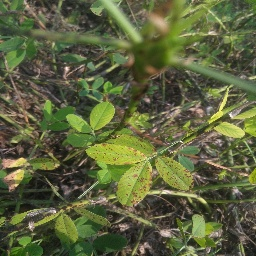GroundNut_Leaf: (85, 131, 156, 163), (116, 162, 153, 211), (158, 156, 196, 192), (1, 37, 25, 73), (82, 205, 109, 235), (54, 216, 79, 247), (193, 215, 218, 246), (209, 119, 247, 139), (42, 101, 65, 131), (92, 234, 128, 253), (90, 102, 115, 129), (10, 235, 45, 254), (89, 1, 121, 19), (1, 171, 24, 194), (30, 157, 60, 174), (67, 114, 87, 129), (91, 76, 106, 94), (251, 166, 256, 187)
